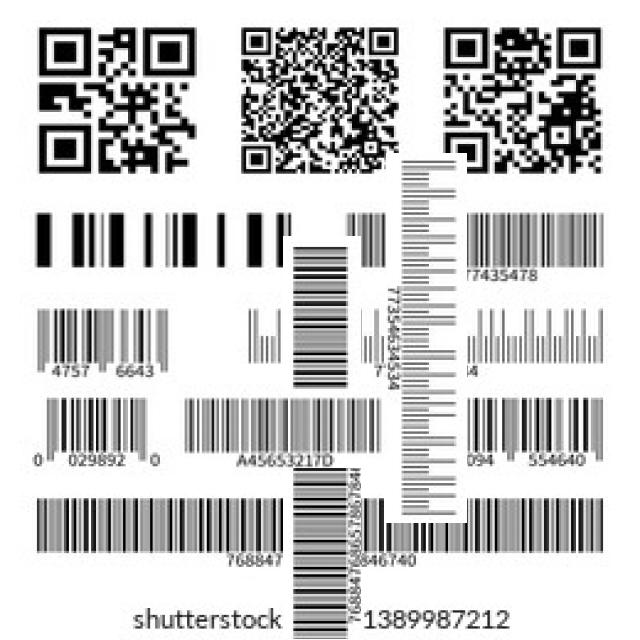Barkod: (156, 362, 487, 640), (313, 225, 539, 451), (338, 202, 609, 288), (26, 204, 299, 276), (178, 389, 388, 468), (27, 297, 176, 385)
